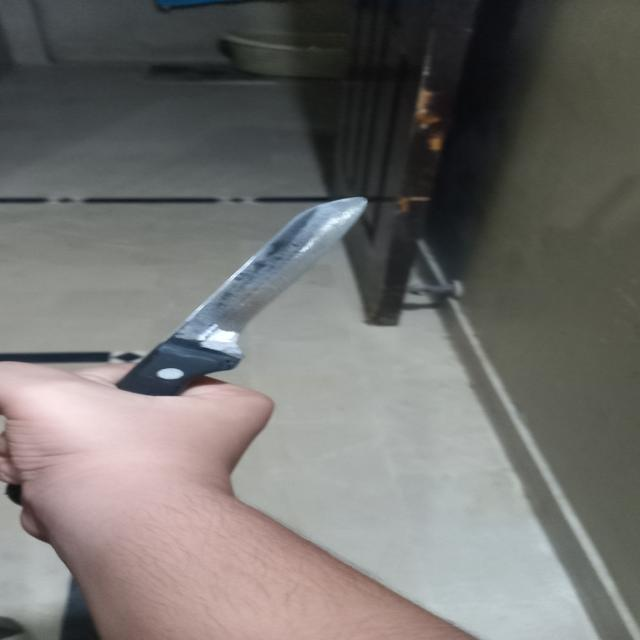Knife: (63, 192, 382, 400)
